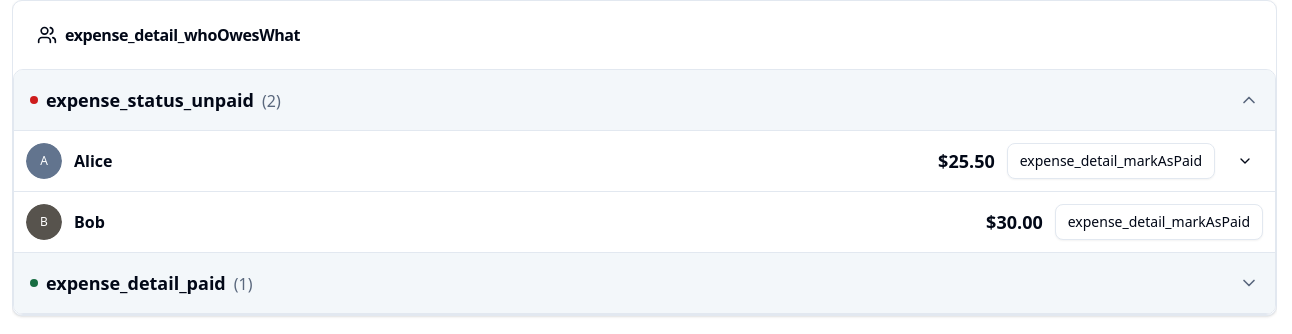
Scenario: ExpenseParticipants › collapses section when header clicked
Click the button "expense_status_unpaid(2)": (150, 100) [14, 70, 1275, 130]
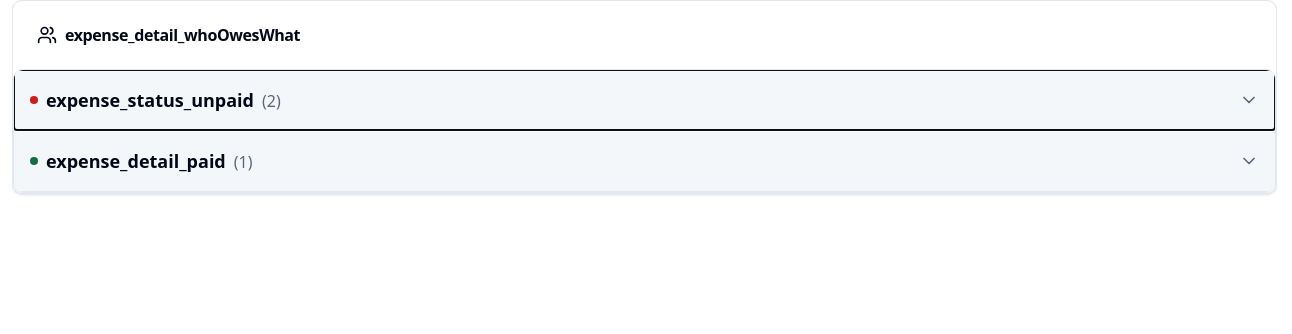
Result: the text "Alice" is gone
